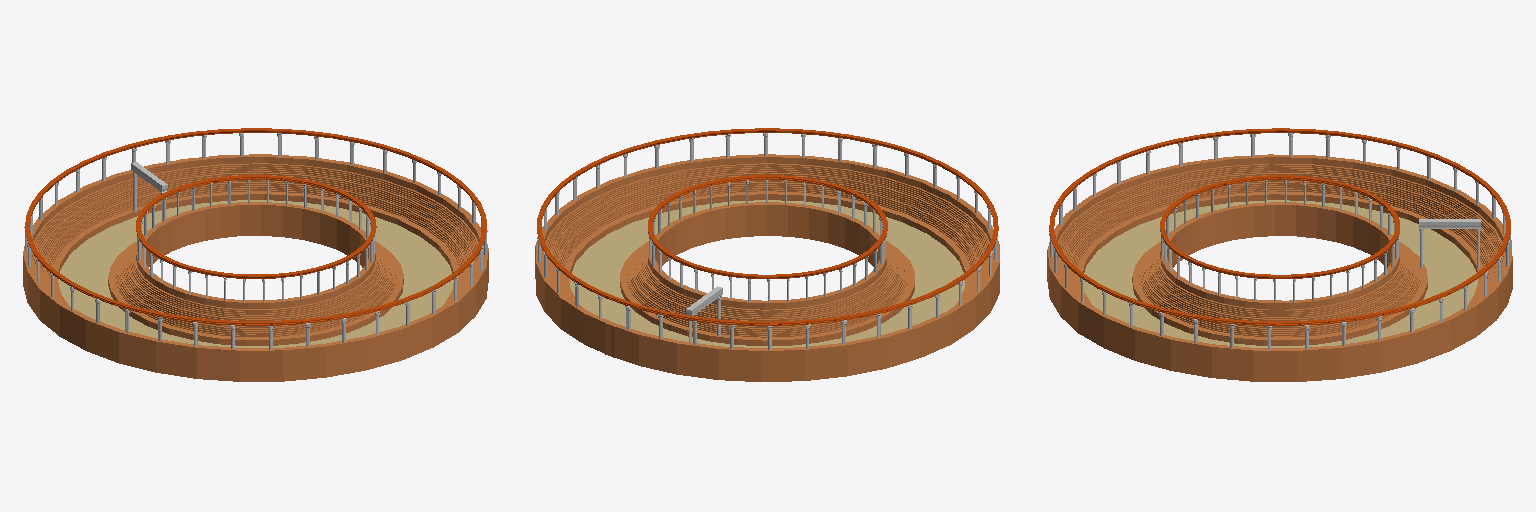
The model's file is intro-track.obj.
The picture shows the model from 3 angles: view 1: azimuth 30°, elevation 25°; view 2: azimuth 150°, elevation 25°; view 3: azimuth 270°, elevation 25°; orthographic projection.
Parts seen in each view (by area): view 1: Stands, Road, Border_(on_top_of_pillars), RealPillers, Pillar; view 2: Stands, Road, Border_(on_top_of_pillars), RealPillers, Pillar; view 3: Stands, Road, Border_(on_top_of_pillars), RealPillers, Pillar.
Boxes of the visible parts, <box> form: Stands: <box>23,154,488,381</box>; Road: <box>58,200,453,347</box>; Border_(on_top_of_pillars): <box>25,128,486,325</box>; RealPillers: <box>24,133,487,349</box>; Pillar: <box>131,162,167,220</box>; Stands: <box>535,154,999,381</box>; Road: <box>570,200,964,347</box>; Border_(on_top_of_pillars): <box>537,128,998,325</box>; RealPillers: <box>537,133,998,349</box>; Pillar: <box>686,286,722,342</box>; Stands: <box>1047,154,1512,381</box>; Road: <box>1084,200,1477,347</box>; Border_(on_top_of_pillars): <box>1049,128,1510,325</box>; RealPillers: <box>1049,133,1510,349</box>; Pillar: <box>1419,219,1480,267</box>.
Bounding box in the file's own units: 290 × 41.39 × 290.